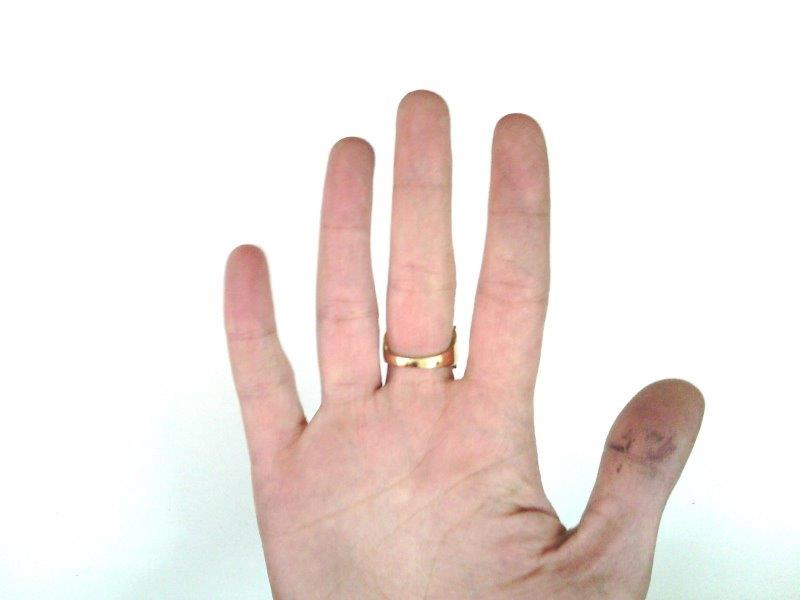hand: (224, 90, 706, 600)
